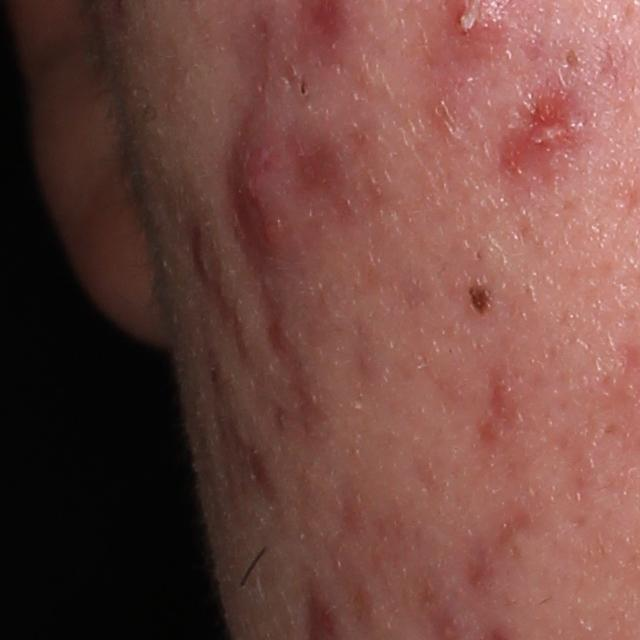nevus: (462, 278, 495, 317)
nodule: (226, 108, 297, 276)
